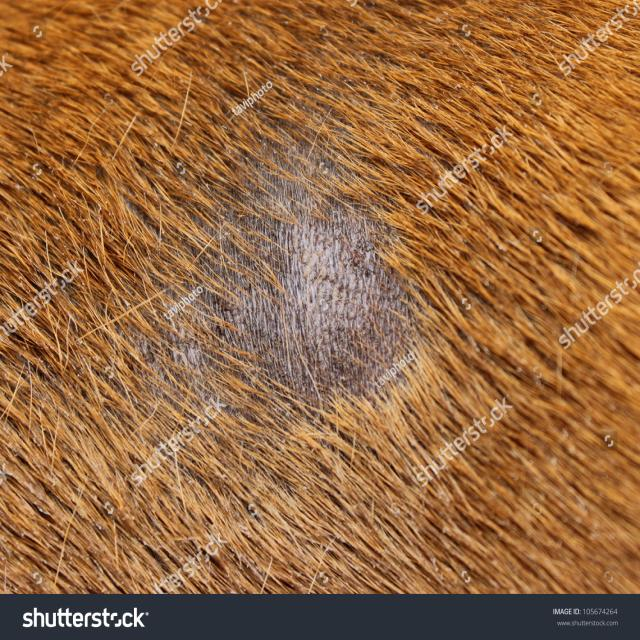fungal infection: (206, 159, 430, 392)
